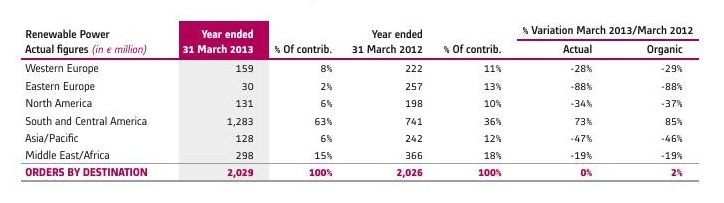table: (0, 0, 724, 203)
